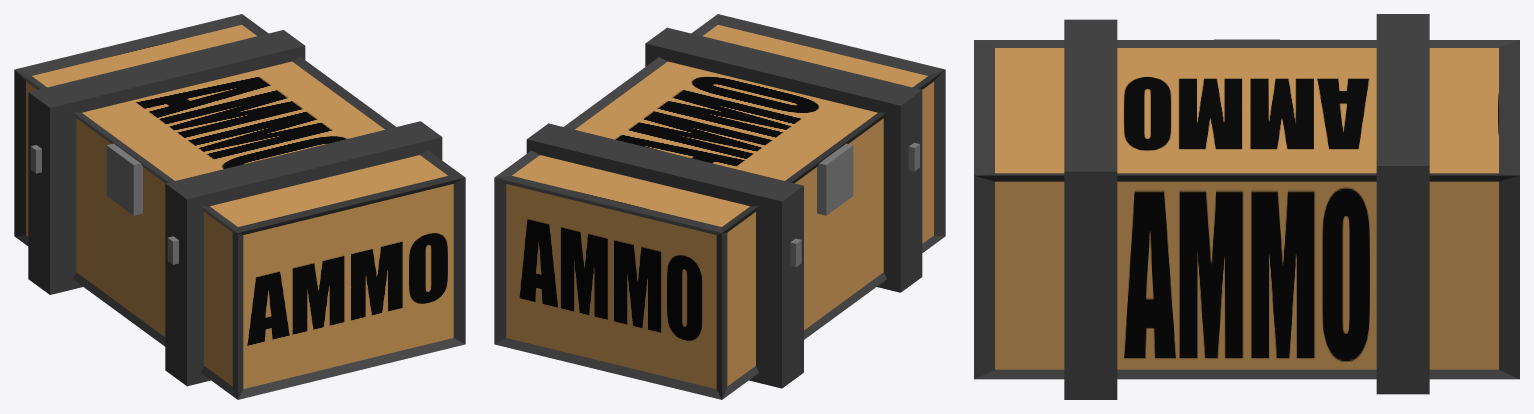
Rendered from ammo.fbx.
3 views of the same model, side by side, from view 1: azimuth 30°, elevation 25°; view 2: azimuth 150°, elevation 25°; view 3: azimuth 270°, elevation 25° (orthographic). The views are drawn at different scales.
Parts seen in each view (by area): view 1: Cube.008, Cube.002, Cube.001; view 2: Cube.008, Cube.002, Cube.001; view 3: Cube.008, Cube.002, Cube.001.
Part boxes in pixels (x1,y1,x2,y2): Cube.008: [26, 25, 453, 388]; Cube.002: [28, 30, 442, 386]; Cube.001: [14, 14, 465, 399]; Cube.008: [506, 25, 933, 388]; Cube.002: [526, 27, 922, 388]; Cube.001: [494, 14, 945, 399]; Cube.008: [995, 39, 1498, 369]; Cube.002: [1064, 14, 1429, 399]; Cube.001: [974, 40, 1519, 379].
Bounding box in the file's own units: 244 × 161 × 350.
Materials: 1 (1 with a texture image).
